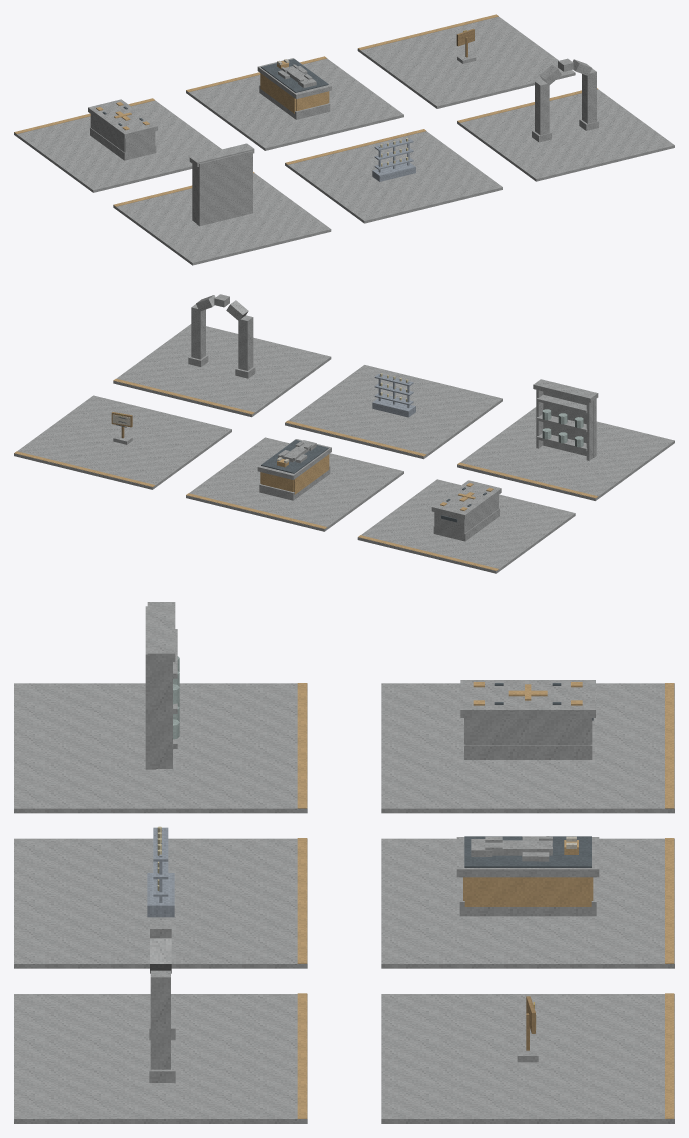
File: level_blockout_kit_church_p03.glb
The picture shows the model from 3 angles, top to bottom: view 1: azimuth 30°, elevation 25°; view 2: azimuth 150°, elevation 25°; view 3: azimuth 270°, elevation 25°; orthographic projection. The views are drawn at different scales.
Parts seen in each view (by area): view 1: level_blockout_kit_church_p03; view 2: level_blockout_kit_church_p03; view 3: level_blockout_kit_church_p03.
Part boxes in pixels (x1,y1,x2,y2): level_blockout_kit_church_p03: (14,14,674,265); level_blockout_kit_church_p03: (14,294,674,573); level_blockout_kit_church_p03: (14,602,674,1123).
Size of the model in its own units: 19.65 by 2.88 by 12.6.
9 materials, 9 textured.
